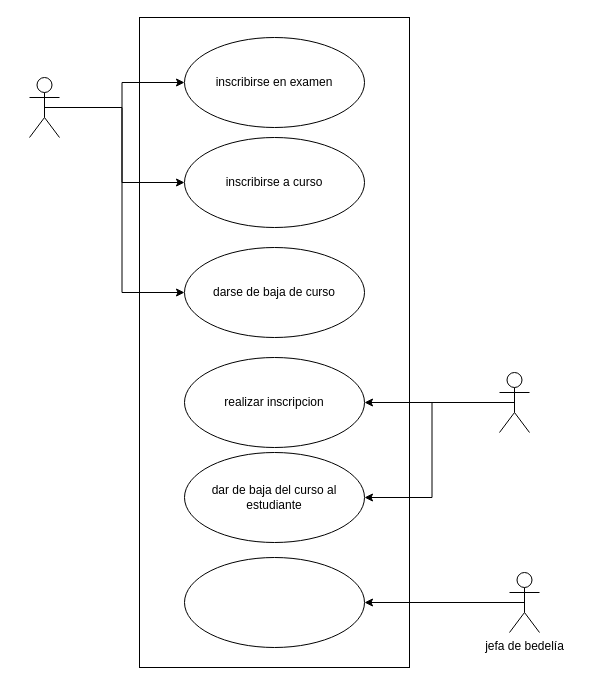
Image size: 589x685. Some labels were removed from this diagram. The box of each missing label's shape, as (x1, y1, x2, y2) in pixels:
comprobar datos del estudiante: (184, 556, 364, 648)
estudiante: (28, 76, 60, 138)
estudiante designado: (498, 372, 530, 432)
